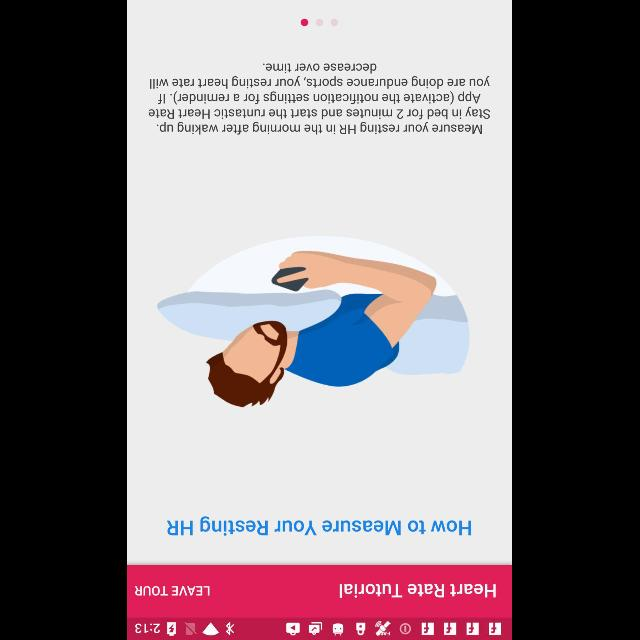image: (157, 234, 470, 408)
pageindicator: (301, 19, 339, 27)
text: (149, 63, 491, 135), (168, 516, 472, 536), (340, 582, 496, 598), (136, 585, 210, 595)
toolbar: (128, 564, 512, 616)
uppertaskbar: (128, 617, 512, 639)
